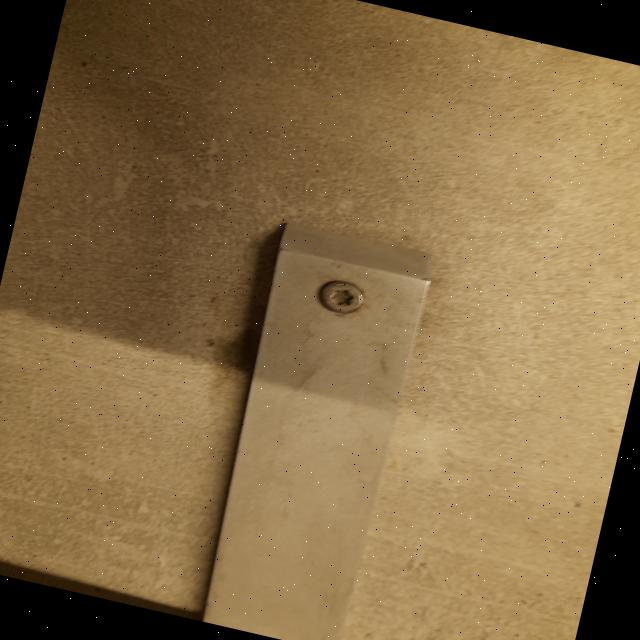Torx: (312, 276, 372, 322)
